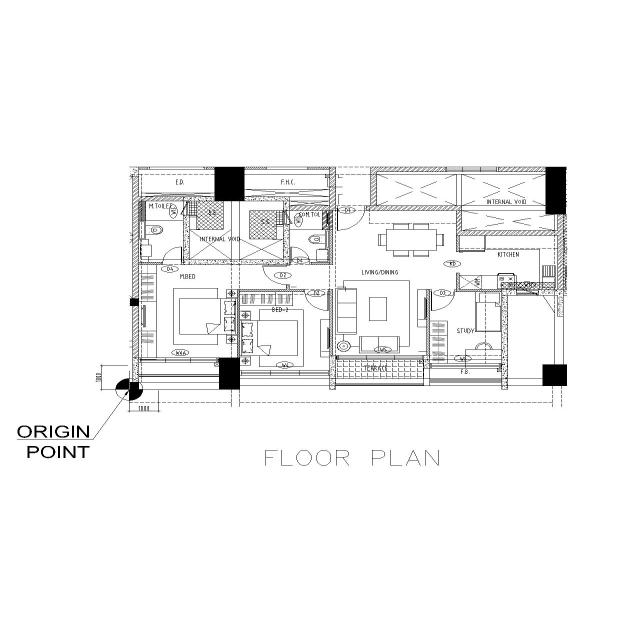Column: (213, 166, 246, 202), (545, 166, 567, 216), (218, 357, 241, 390), (542, 364, 568, 386), (129, 381, 140, 391), (129, 298, 140, 306)
Door: (335, 205, 367, 211), (286, 264, 290, 286), (302, 289, 330, 292), (429, 289, 457, 292), (288, 262, 312, 265), (160, 262, 184, 265)
Ventilator: (182, 200, 190, 216), (282, 210, 290, 225)
Window: (239, 370, 331, 376), (138, 357, 220, 363), (335, 355, 425, 360), (429, 363, 503, 369), (515, 289, 539, 296)
